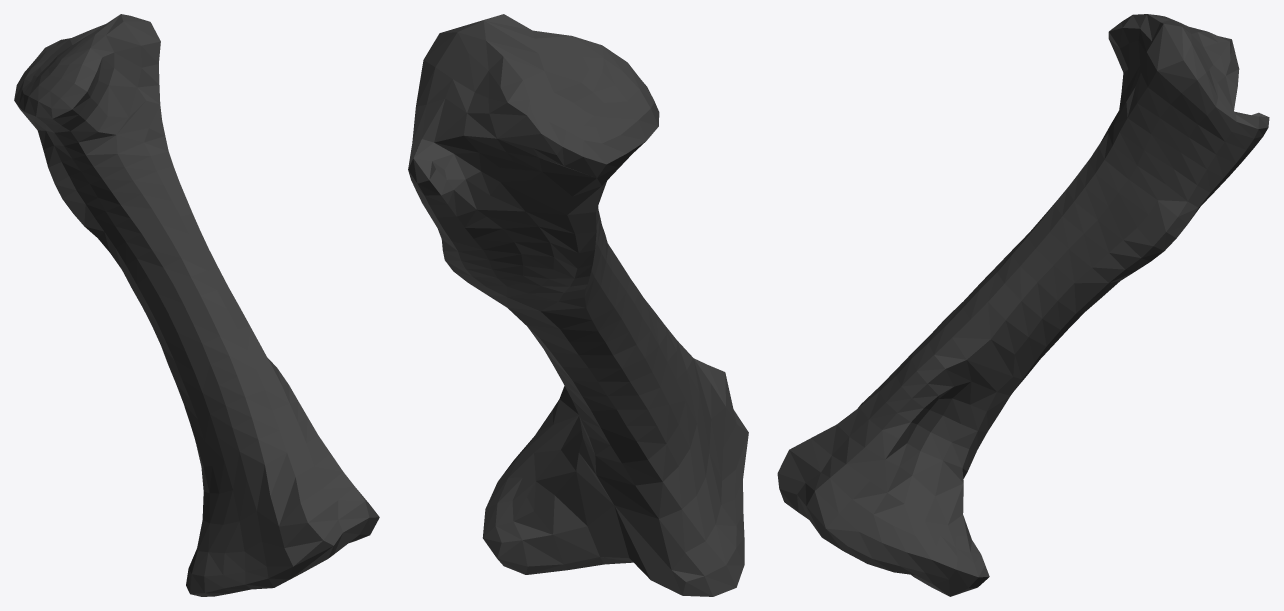
File: LHL_femur_main.glb
3 renders of one model, left to right at view 1: azimuth 30°, elevation 25°; view 2: azimuth 150°, elevation 25°; view 3: azimuth 270°, elevation 25°, orthographic. The views are drawn at different scales.
Parts seen in each view (by area): view 1: LHL_femur_main; view 2: LHL_femur_main; view 3: LHL_femur_main.
Boxes of the visible parts, box(x1,y1,x2,y2) form: LHL_femur_main: box(14, 14, 379, 596); LHL_femur_main: box(408, 14, 748, 596); LHL_femur_main: box(777, 14, 1269, 596).
Size of the model in its own units: 23.66 by 51.69 by 43.52.
1 material, 1 textured.
